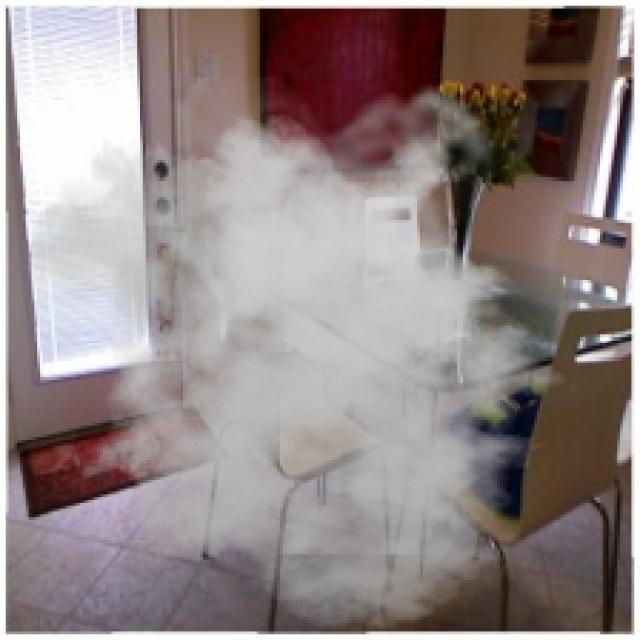Smoke: (31, 77, 588, 632)
